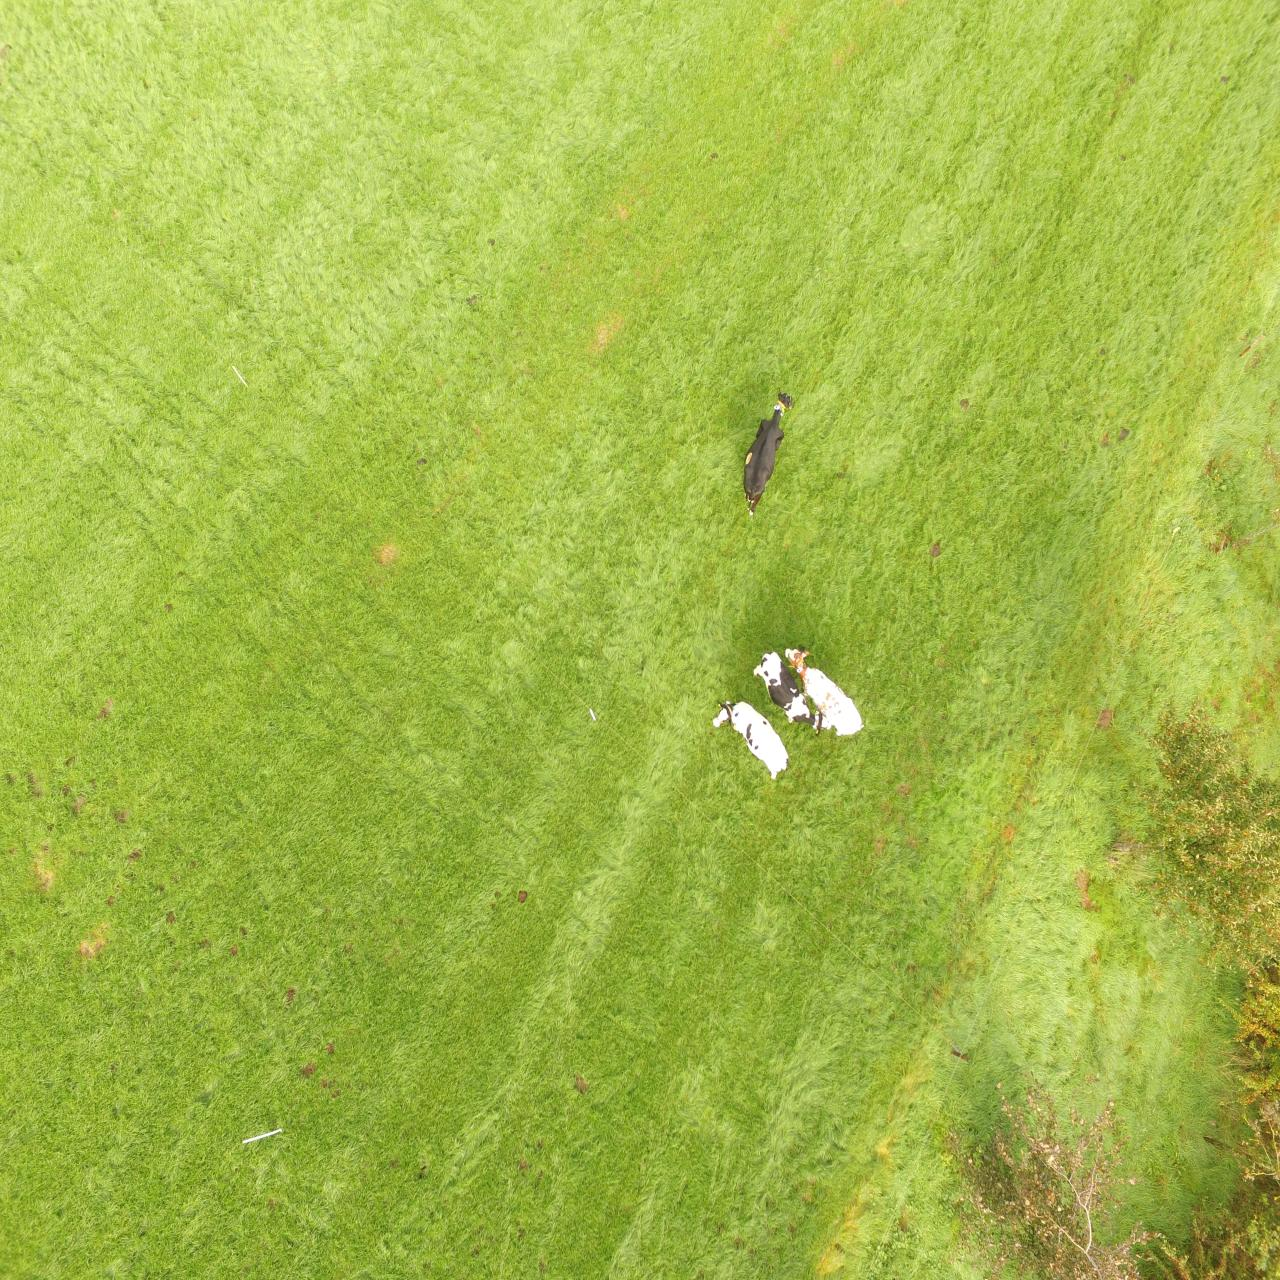cow: (784, 648, 863, 737), (742, 388, 794, 517), (753, 649, 831, 729), (714, 700, 788, 784)
